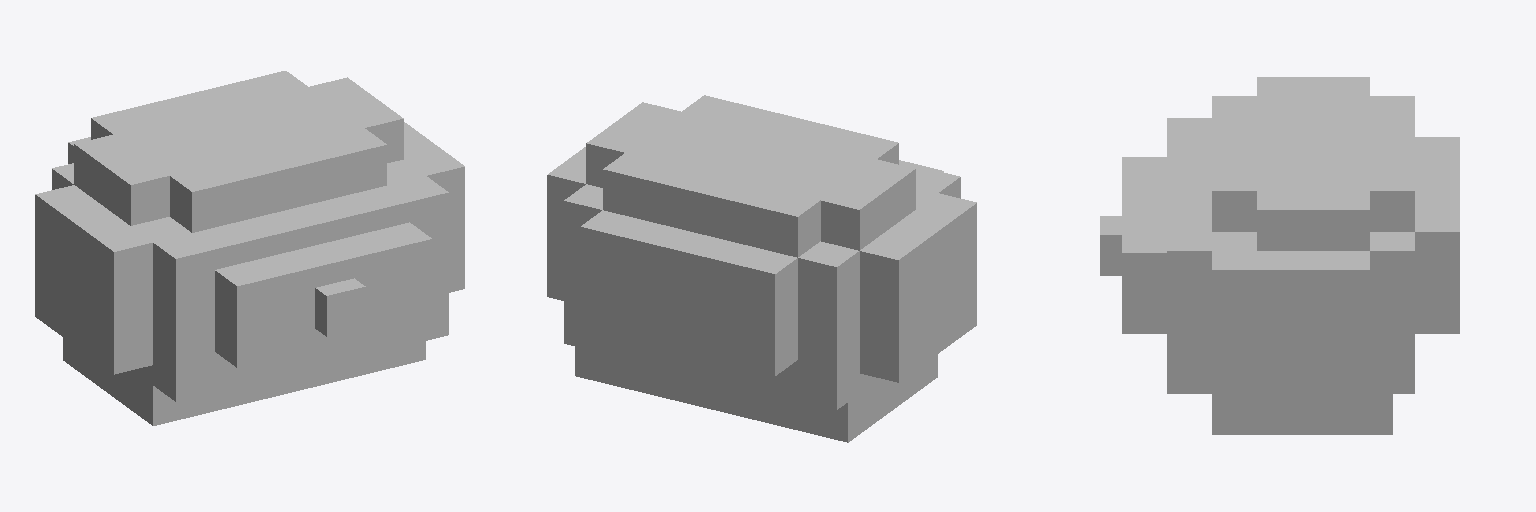
File: upperbody.obj
The picture shows the model from 3 angles: view 1: azimuth 30°, elevation 25°; view 2: azimuth 150°, elevation 25°; view 3: azimuth 270°, elevation 25°; orthographic projection.
Bounding box in the file's own units: 18 × 11 × 16.